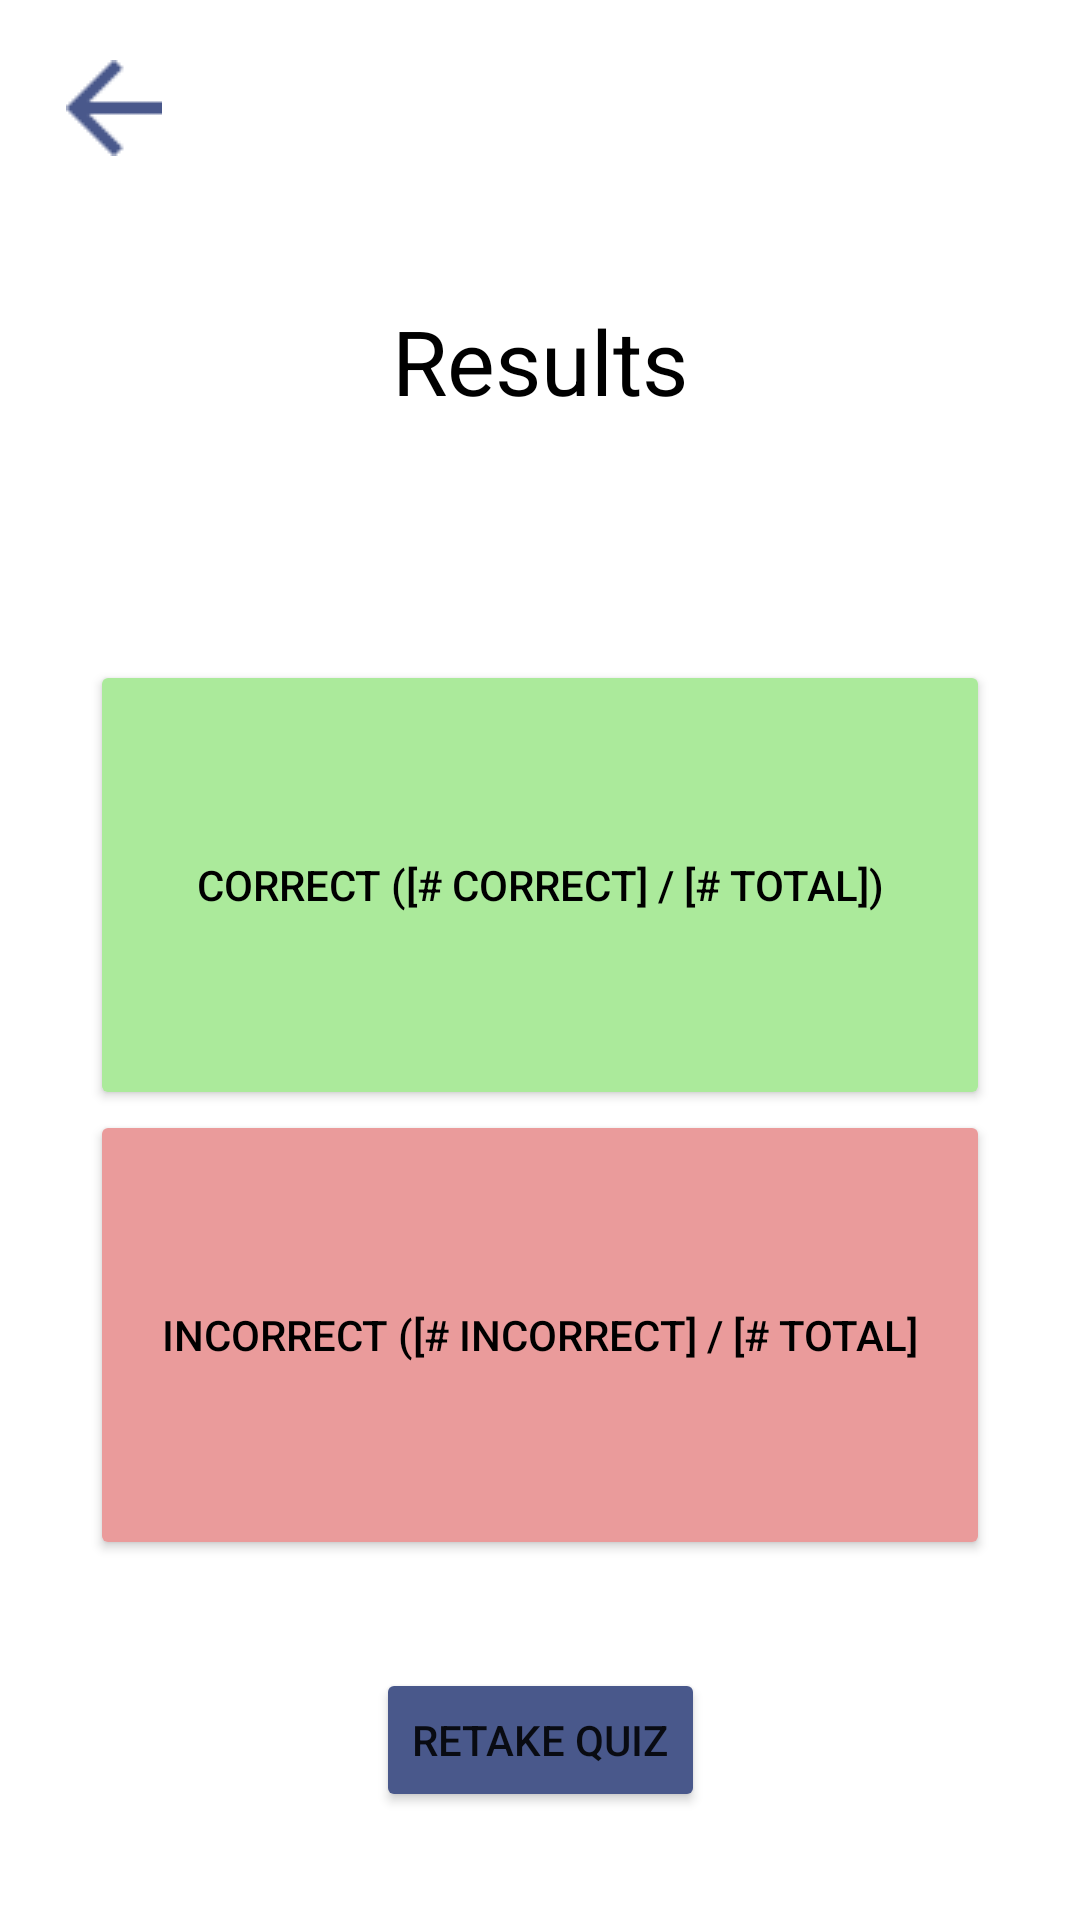

Icons on this 1080px×1920px Android screen, each with the point to tap as [x,y]:
Back Arrow: [114,108]
